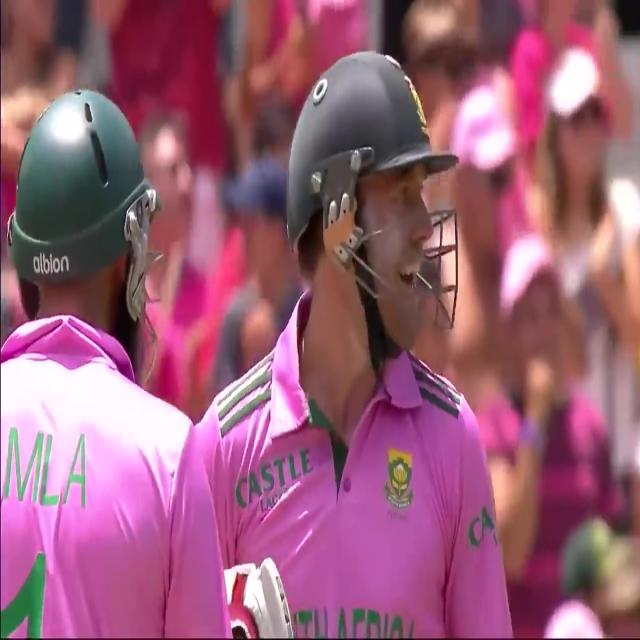Ball: (152, 47, 512, 630), (0, 88, 223, 637)
